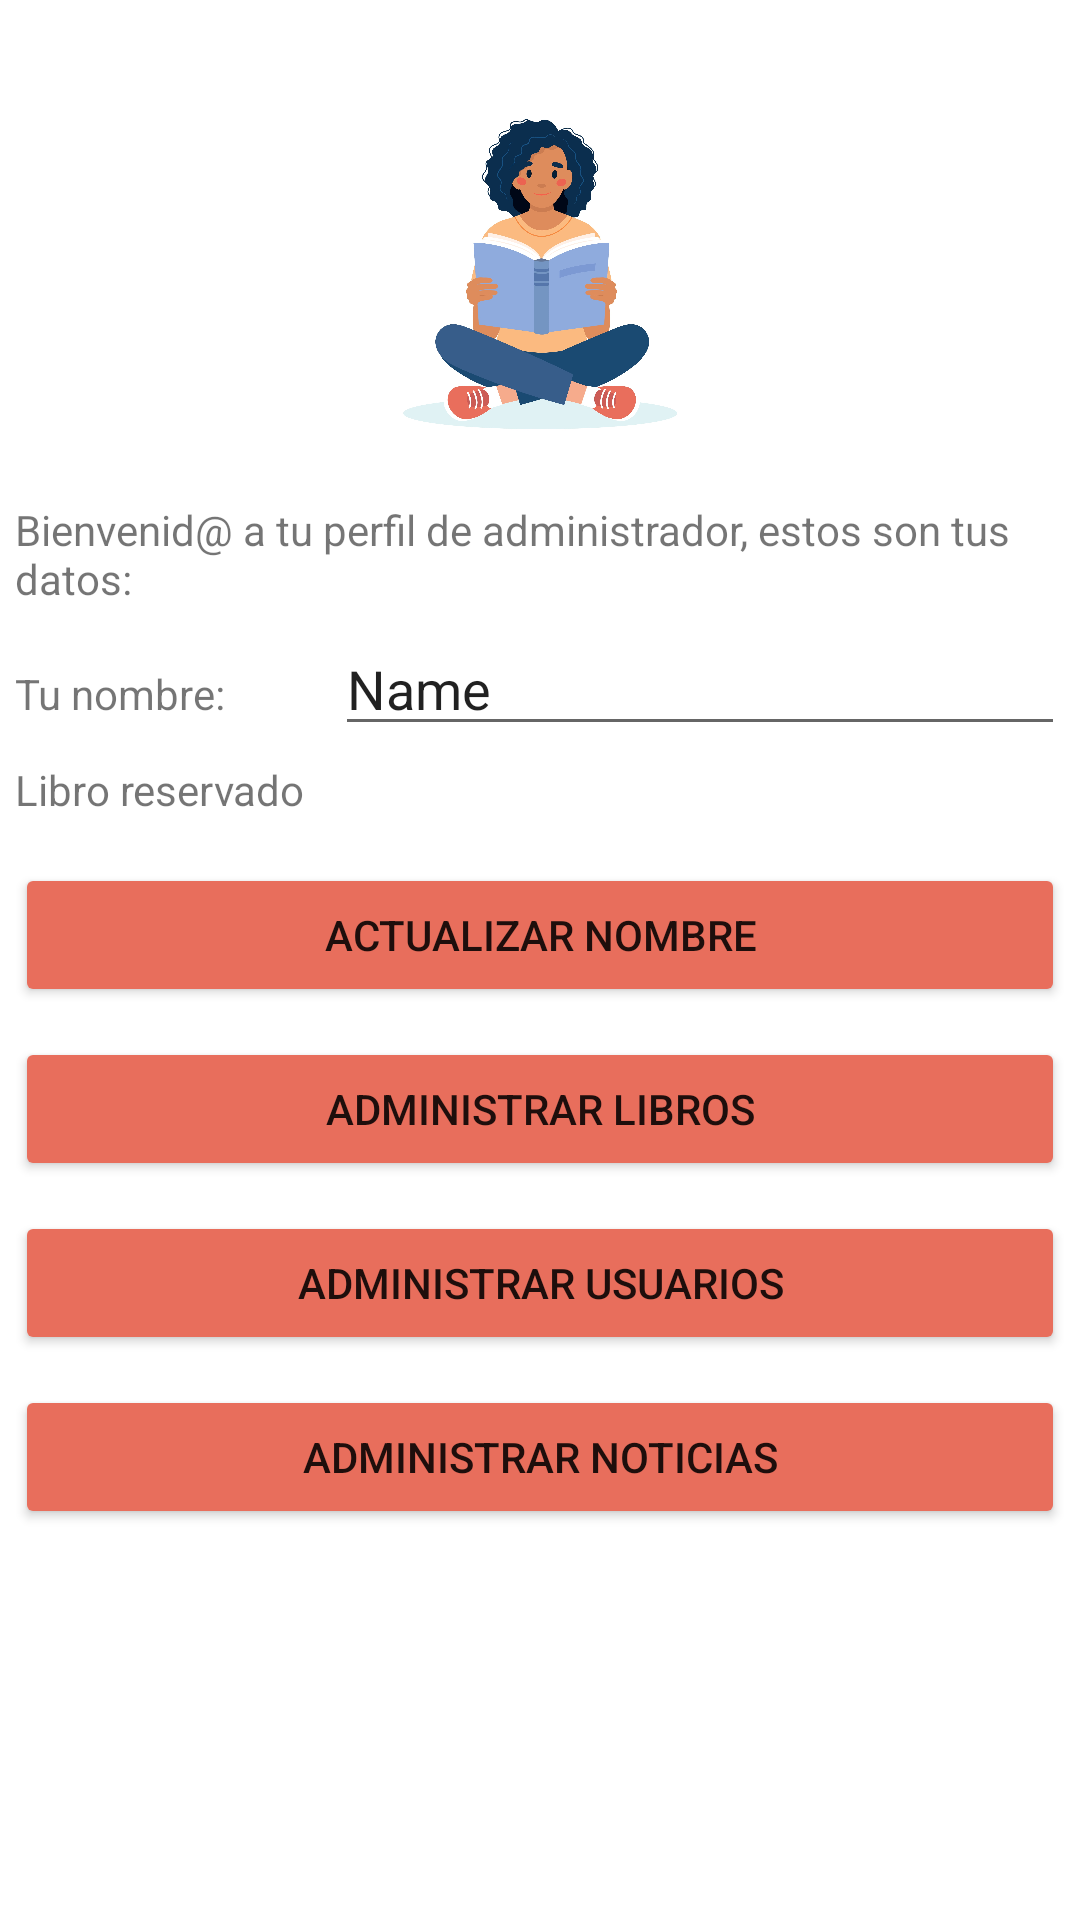

Where icons sit on this 1080 × 1920 app screen, as (x1, y1, x2, y2):
persona: (403, 119, 677, 429)
